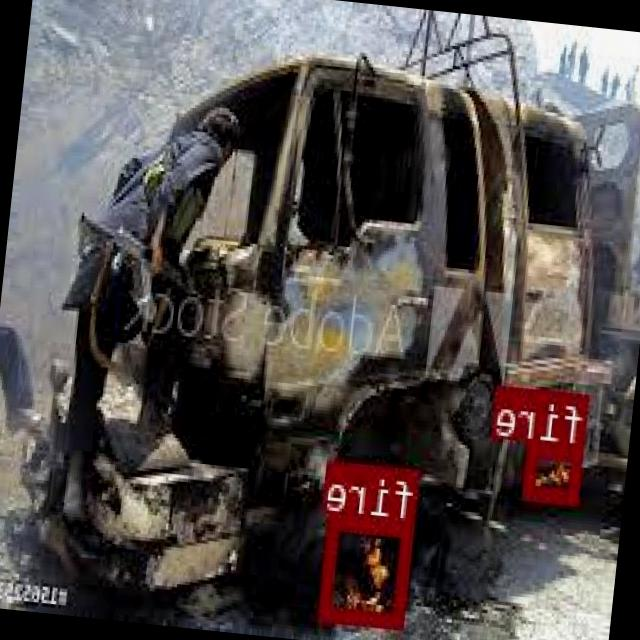fire: (321, 512, 416, 624), (526, 439, 586, 502)
